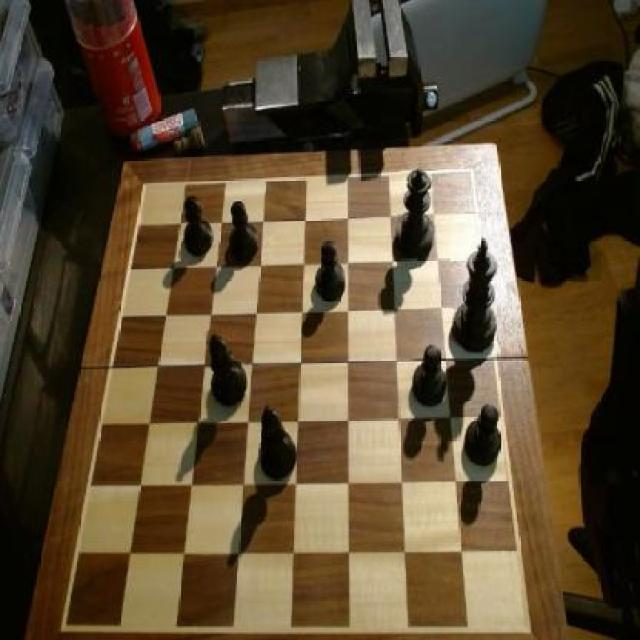bishop: (205, 329, 247, 411), (256, 403, 296, 485)
black-bishop: (451, 235, 500, 358)
black-knight: (465, 403, 502, 472), (412, 344, 446, 412), (312, 240, 348, 303), (181, 198, 217, 258), (228, 198, 260, 260)
black-pawn: (397, 165, 436, 262)
